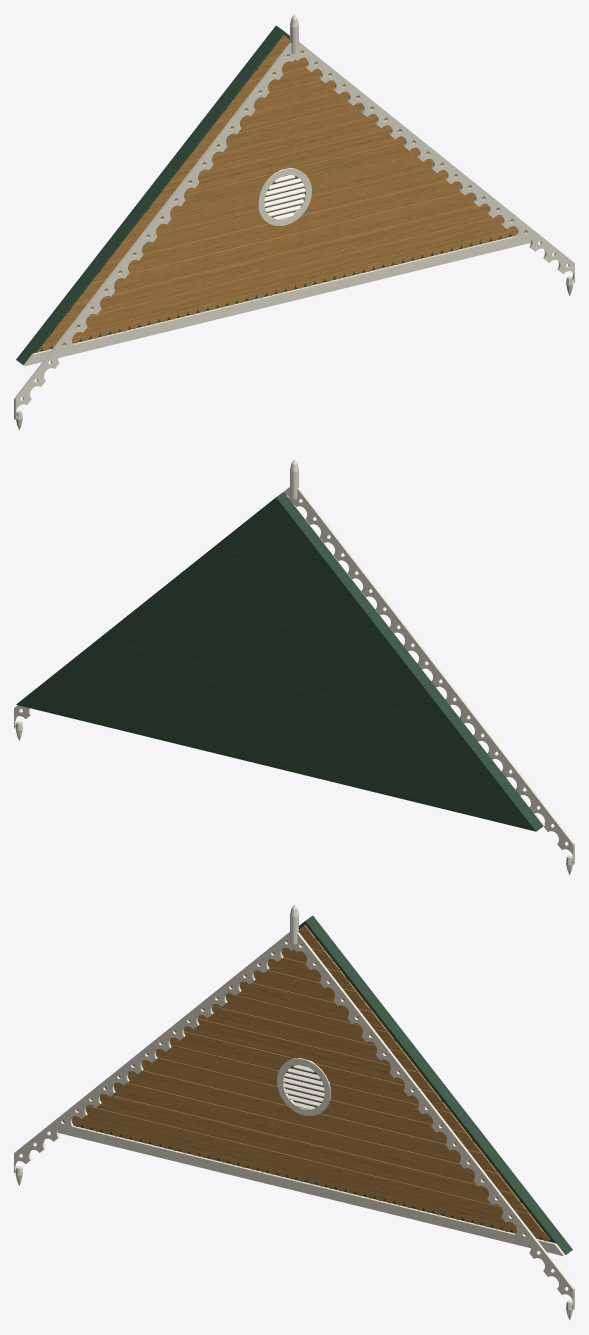
Rendered from gable_back.glb.
The picture shows the model from 3 angles, top to bottom: view 1: azimuth 30°, elevation 25°; view 2: azimuth 150°, elevation 25°; view 3: azimuth 330°, elevation 25°; orthographic projection.
Parts seen in each view (by area): view 1: gable_back_scale, gable_back_trim, gable_back_boards; view 2: gable_back_boards, gable_back_trim; view 3: gable_back_scale, gable_back_trim, gable_back_boards.
Part boxes in pixels (box(x1,y1,x2,y2)): gable_back_scale: box(36, 35, 526, 352); gable_back_trim: box(14, 14, 574, 430); gable_back_boards: box(16, 25, 512, 364); gable_back_boards: box(16, 492, 543, 831); gable_back_trim: box(14, 459, 574, 875); gable_back_scale: box(63, 925, 549, 1241); gable_back_trim: box(14, 904, 574, 1320); gable_back_boards: box(62, 915, 572, 1254).
Bounding box in the file's own units: 8.6 × 5.13 × 0.5471.
Materials: 4 (2 with a texture image).
